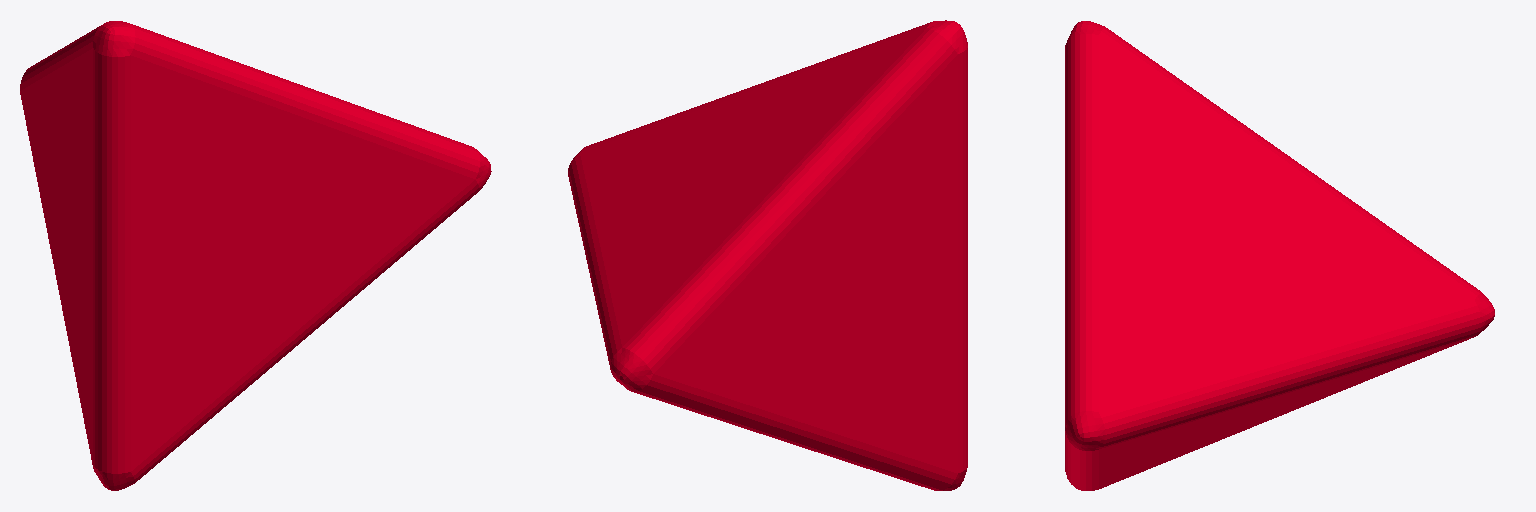
robot.urdf — tetrahedron.urdf:
<?xml version="1.0" ?>
<robot name="tetrahedron.urdf">

  <link name="empty">
    <contact>
    	<friction_anchor/>
    	   <lateral_friction value="1.0"/>
    </contact>
    <inertial>
      <origin rpy="0 0 0" xyz="0 0 0"/>
       <mass value=".1"/>
       <inertia ixx="1" ixy="0" ixz="0" iyy="1" iyz="0" izz="1"/>
    </inertial>
    <visual>
      <origin rpy="0 0 0" xyz="0 0 0"/>
      <geometry>
				<mesh filename="tetrahedron_rounded.obj" scale="1.0 1.0 1.0"/>
      </geometry>
       <material name="red">
        <color rgba="0.9 0 0.2 1.0"/>
      </material>
    </visual>
    <collision>
      <origin rpy="0 0 0" xyz="0 0 0"/>
      <geometry>
				<mesh filename="tetrahedron_rounded.obj" scale="1.0 1.0 1.0"/>
      </geometry>
    </collision>
  </link>


</robot>

--- What the picture shows (computed from the rendered views, not written in the file) ---
The picture shows the robot from 3 angles, left to right: view 1: azimuth 30°, elevation 25°; view 2: azimuth 150°, elevation 25°; view 3: azimuth 270°, elevation 25°; orthographic projection.
Model tetrahedron.urdf with 1 links and 0 joints (none), rooted at empty, posed all joints at 0.
Visible links, largest first — view 1: empty; view 2: empty; view 3: empty.
Boxes of the visible links, bbox=[...] form: empty: bbox=[20, 21, 491, 490]; empty: bbox=[568, 20, 967, 490]; empty: bbox=[1065, 21, 1494, 490].
Bounding box of the posed robot: 0.1012 × 0.0962 × 0.1145 m (x, y, z).
Meshes: 1 distinct files referenced, 1 mesh visuals loaded (1 OBJ).